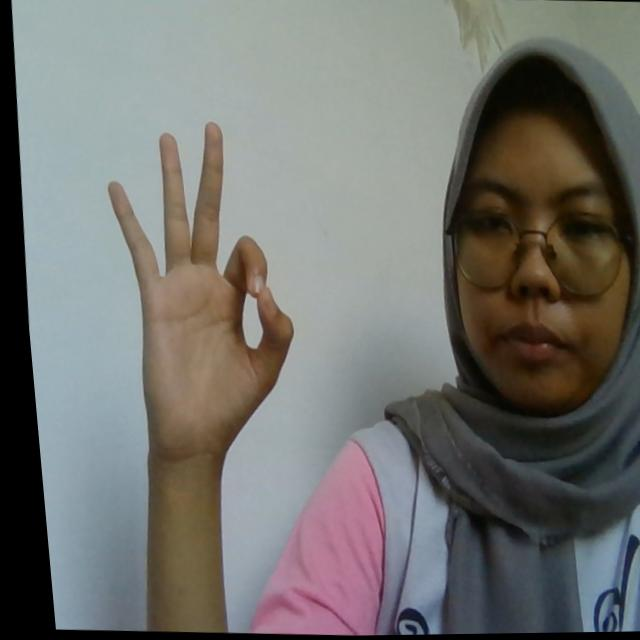F: (90, 117, 306, 460)
